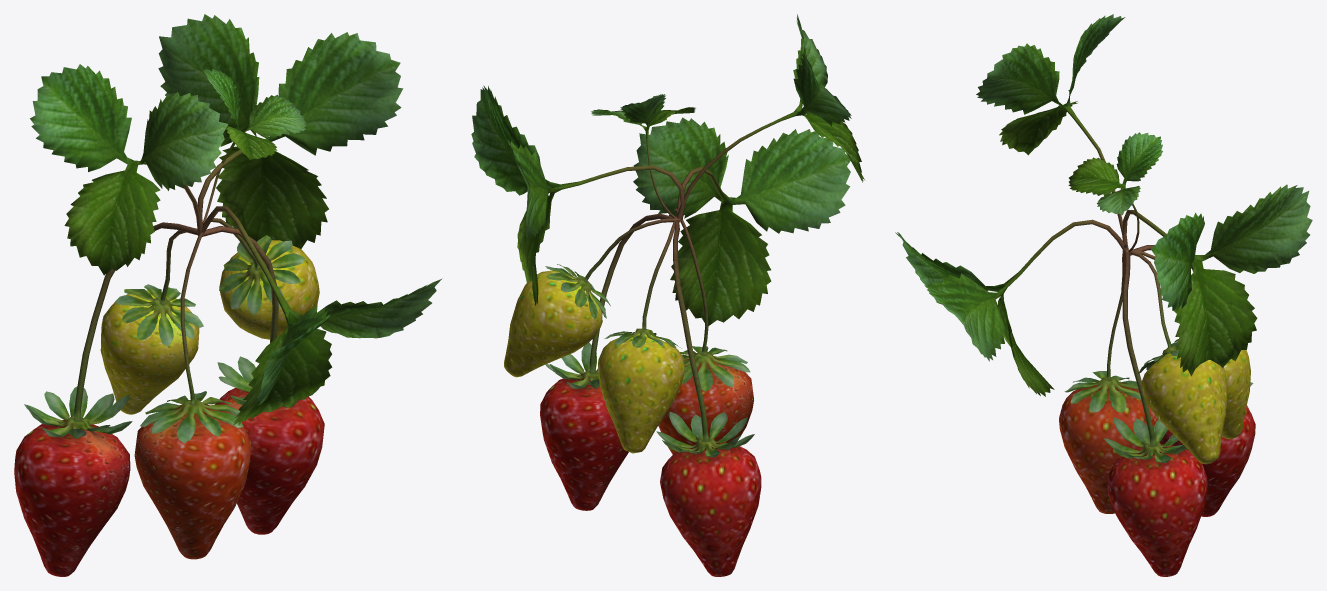
Rendered from strawb_03.fbx.
3 views of the same model, side by side, from view 1: azimuth 30°, elevation 25°; view 2: azimuth 150°, elevation 25°; view 3: azimuth 270°, elevation 25° (orthographic). The views are drawn at different scales.
Visible parts, largest first — view 1: model_7; view 2: model_7; view 3: model_7.
Boxes of the visible parts, x1=… form: model_7: x1=14, y1=14, x2=442, y2=576; model_7: x1=471, y1=14, x2=864, y2=576; model_7: x1=895, y1=14, x2=1312, y2=576.
Bounding box in the file's own units: 389 × 522 × 410.
